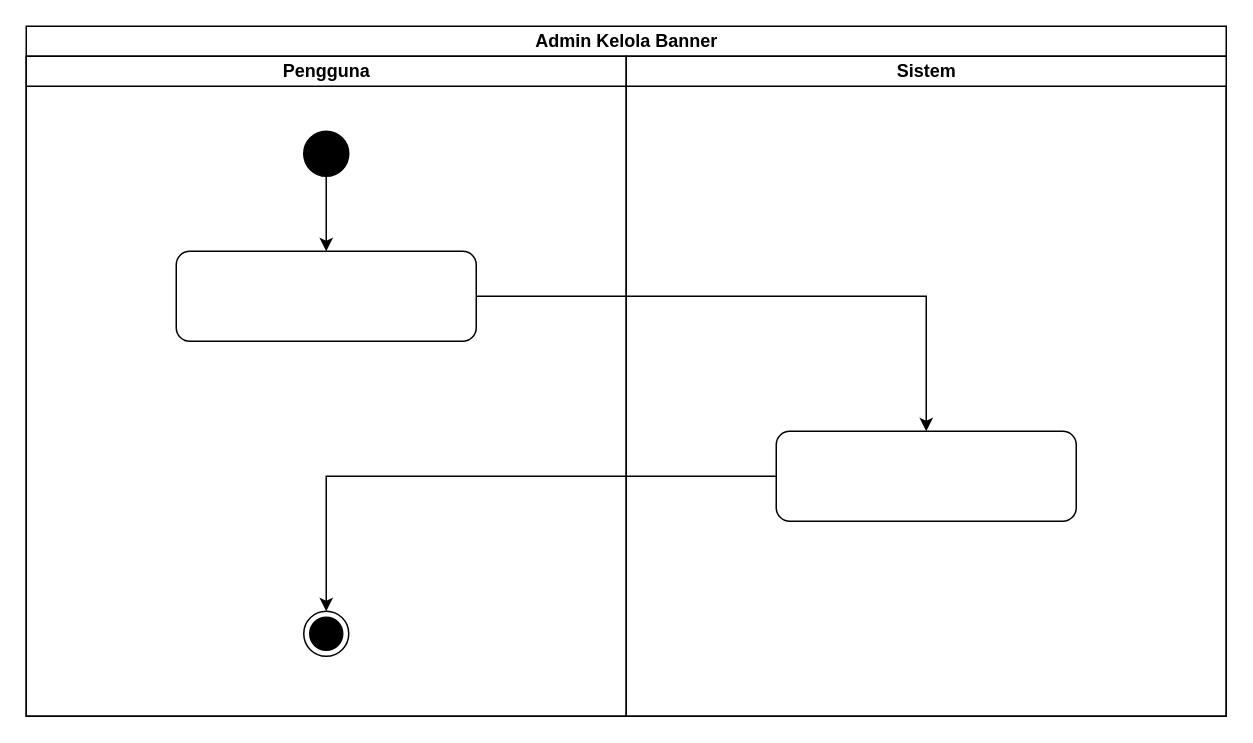
This 1253x743 diagram has some shape labels left out. The shapes that lost their labels are listed below. From the top down, each one's centre as x and y in pixels, then its label:
(325,295): Mengunggah gambar promo banner baru
(925,475): Memperbarui tampilan banner di halaman beranda pengguna
